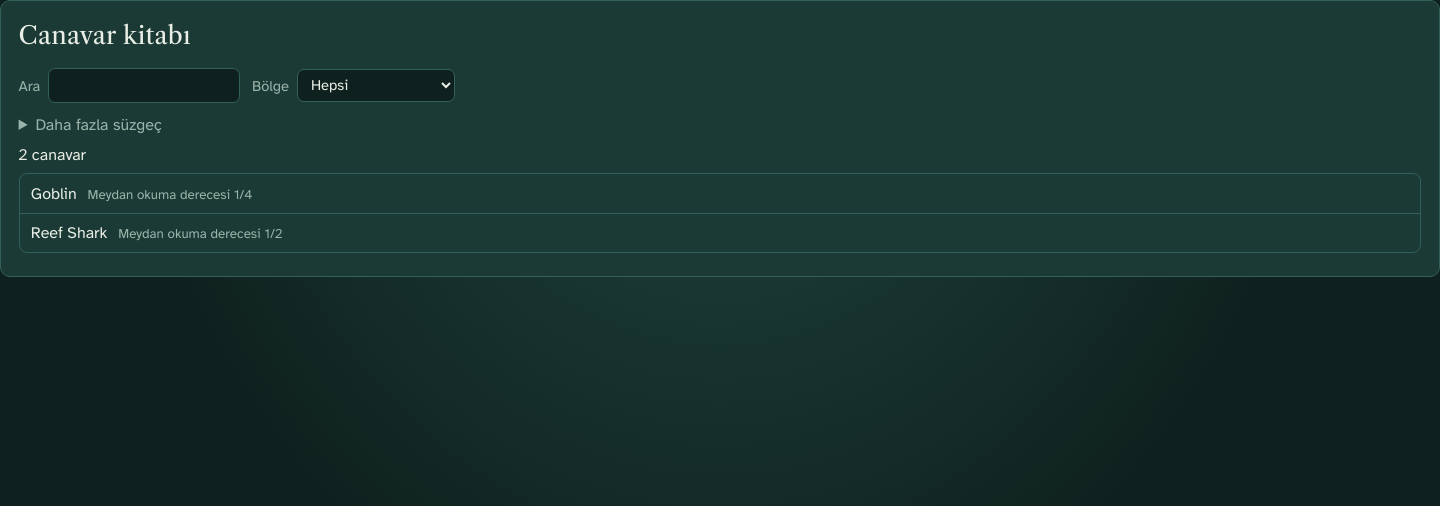
Scenario: bölgeye ve ada göre süzer
Expected: the number of list items is 2, [20,174,1420,214]; [20,214,1420,252]
Select "Su altı" in the dropdown labelled "Bölge". click: x=376, y=85
box: [297,69,455,102]
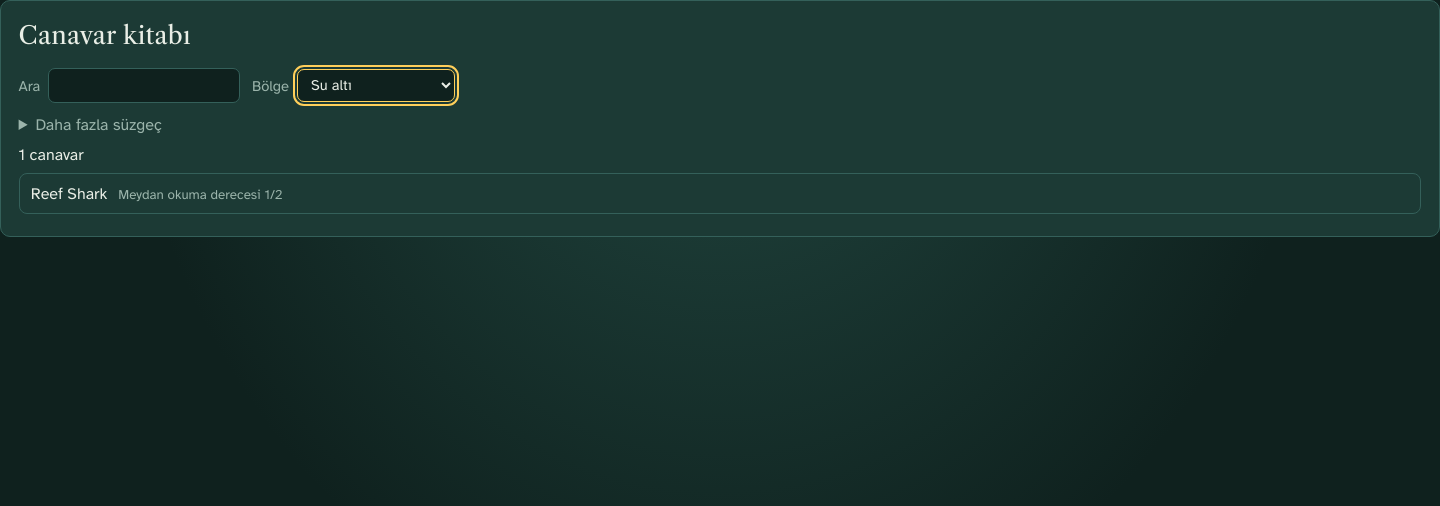
Select "Hepsi" in the dropdown labelled "Bölge". click: x=376, y=85
box: [297,69,455,102]
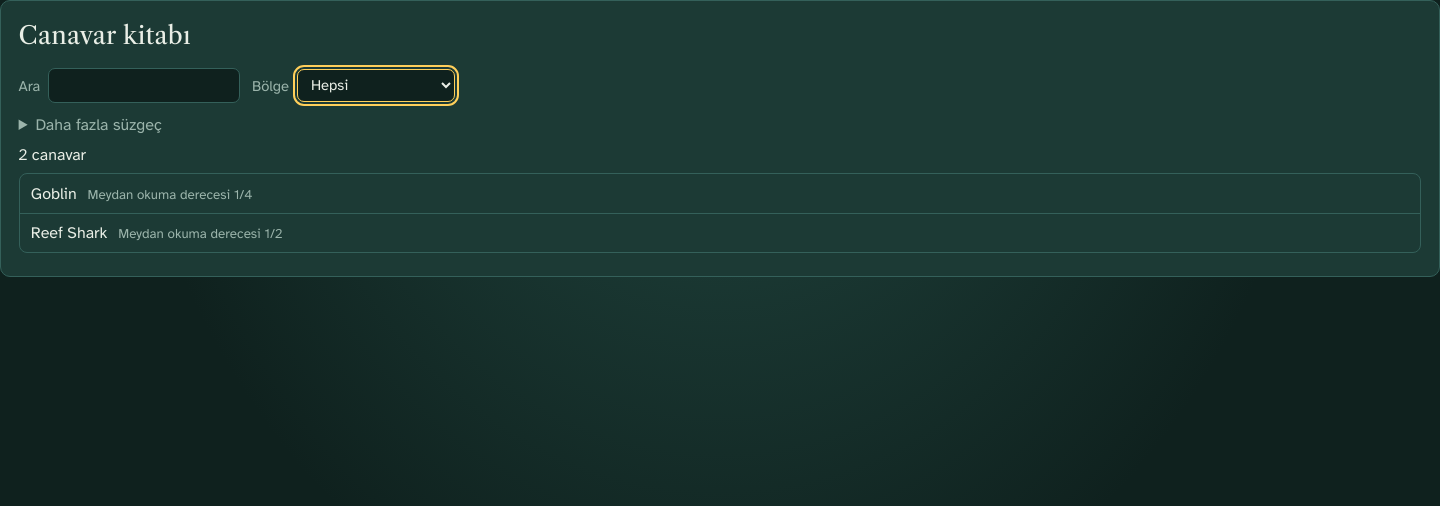
Type "gob" into the field labelled "Ara". click: x=144, y=85
box: [48,68,240,103]
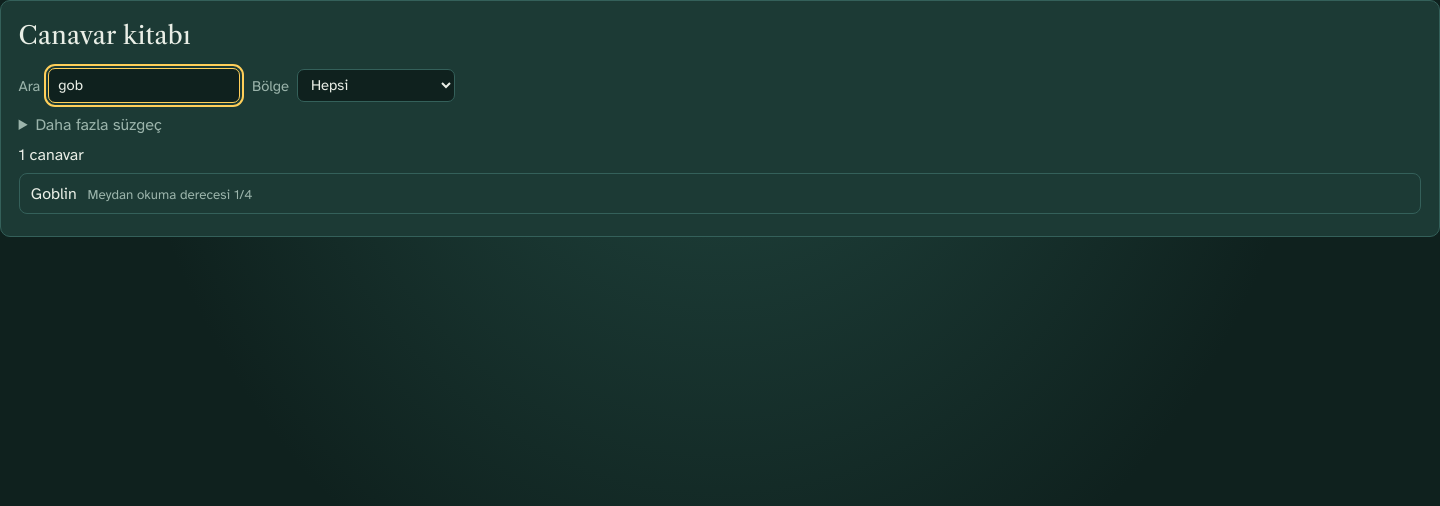
Now the number of list items is 1, box [20,174,1420,213]
